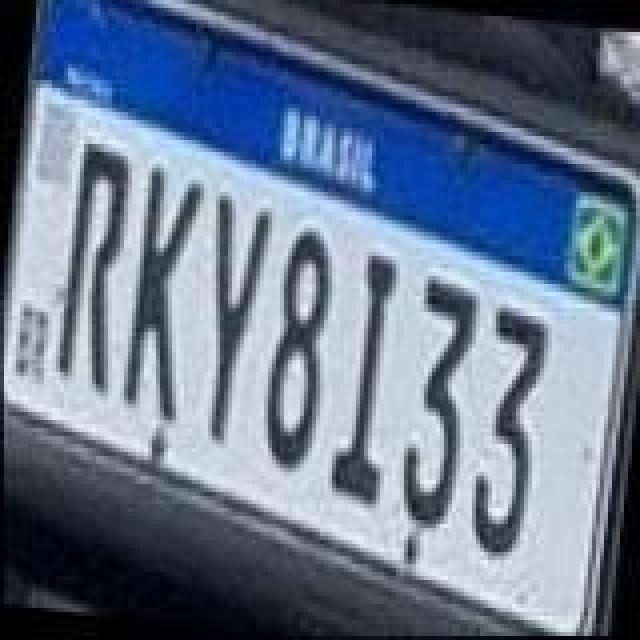3: (460, 296, 552, 564), (392, 272, 484, 532)
8: (252, 222, 344, 478)
I: (324, 246, 408, 510)
K: (114, 162, 210, 430)
R: (52, 136, 144, 400)
Y: (188, 190, 280, 446)
